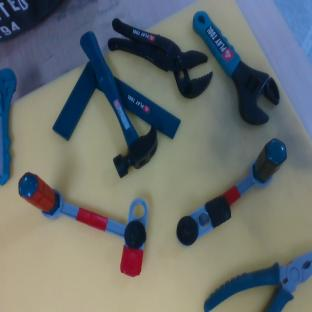non_pass: (169, 133, 296, 254)
pass: (4, 171, 156, 278)
